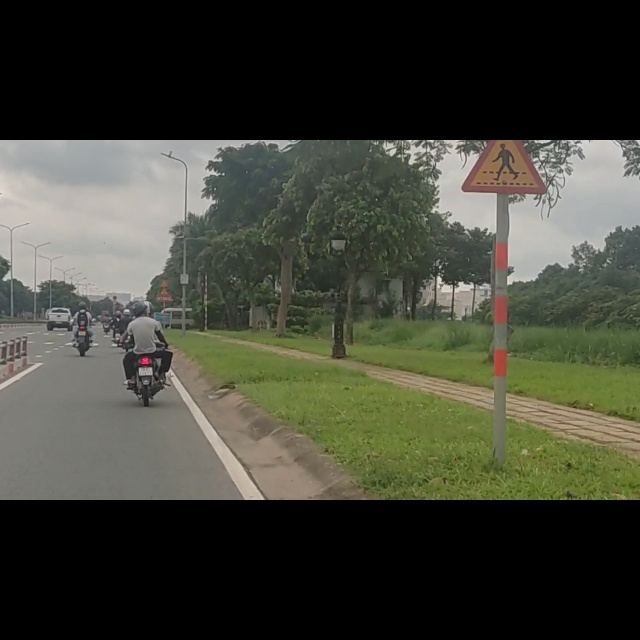Chướng ngại vật: (160, 288, 168, 295)
Đi chậm: (161, 280, 168, 287)
Đường người đi bộ sang đường: (460, 140, 553, 195)
